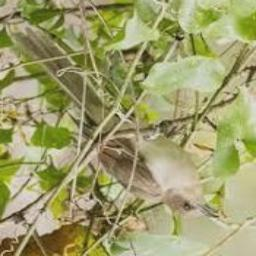Cuckoo: (10, 26, 218, 220)
